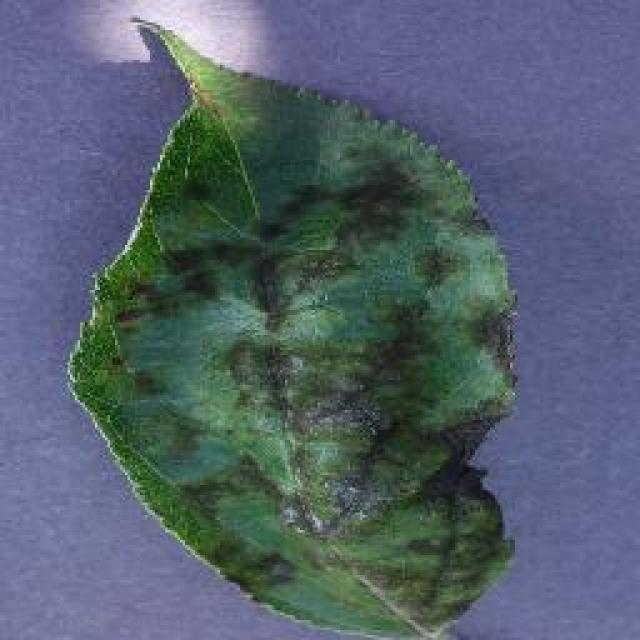apple scab disease: (65, 12, 523, 638)
